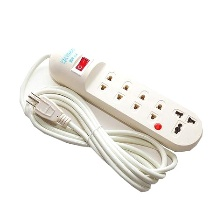three_eye_plug: (43, 43, 206, 156)
